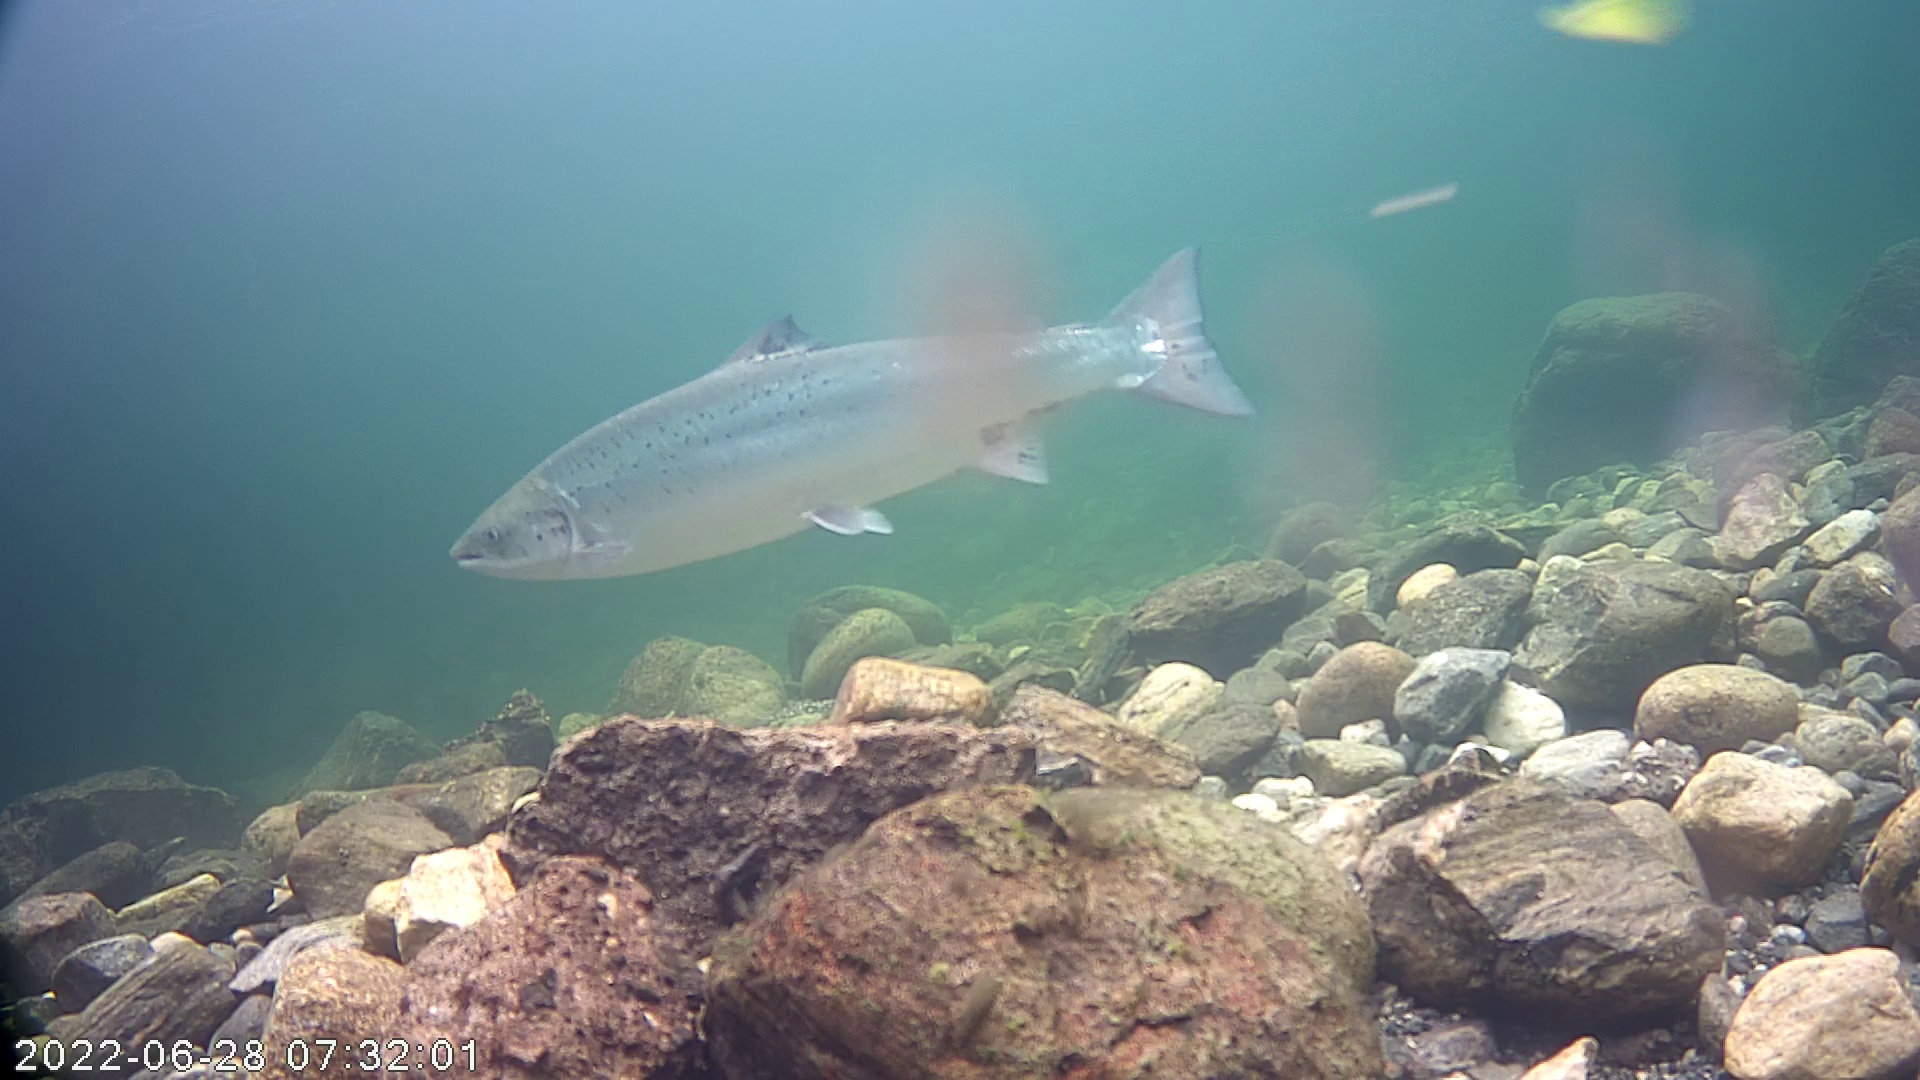salmon: (448, 187, 1276, 618)
